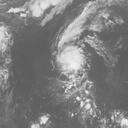cyclone: (54, 37, 90, 79)
